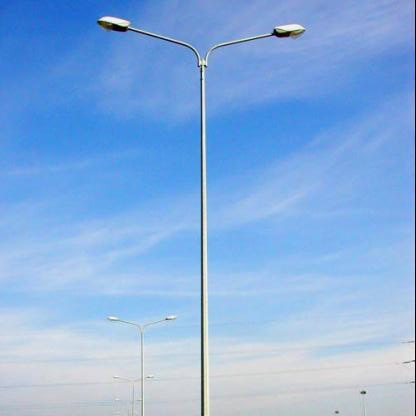off: (23, 97, 52, 149), (11, 266, 37, 322)
